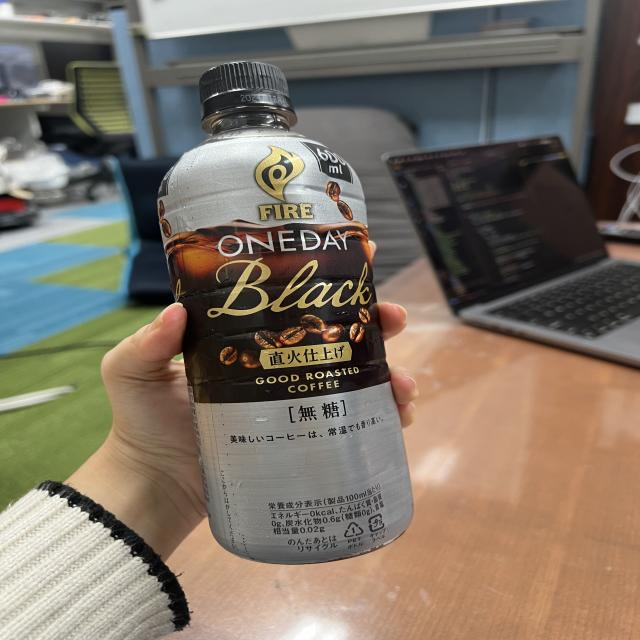coffee-black: (164, 54, 400, 551)
